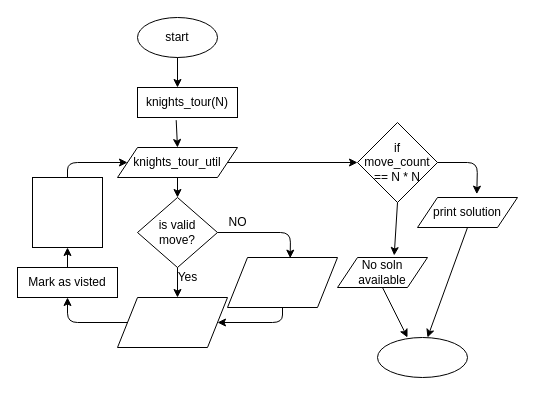
Some shapes in this 535 by 395 pixel diagram are drawn without their labels. The shapes that lost their labels are listed below. From the top down, each one's centre as x and y in pixels, then its label:
(x=67, y=212): Recursive call to explore next move
(x=282, y=282): Backtrack and unmark square
(x=172, y=322): get unvisited neighbors and sort
(x=422, y=357): End
